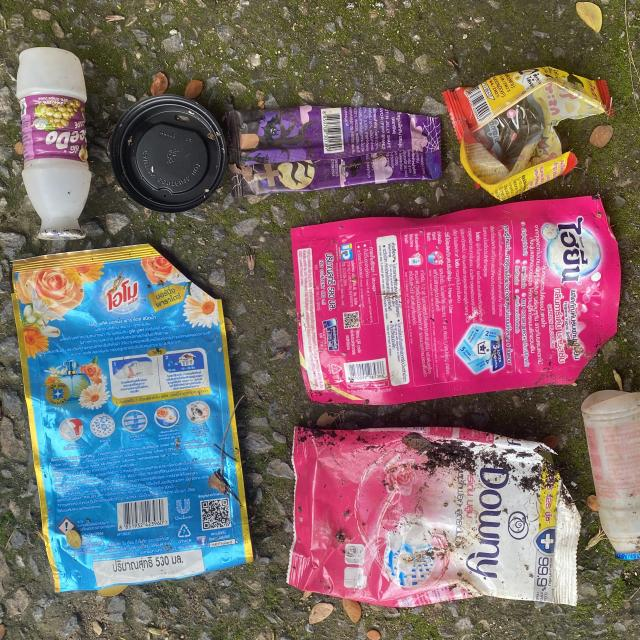plastik: (12, 244, 251, 592), (291, 195, 619, 404), (287, 427, 580, 607), (443, 66, 613, 201), (227, 105, 442, 197), (17, 47, 90, 237), (111, 94, 227, 212), (582, 390, 640, 559)
